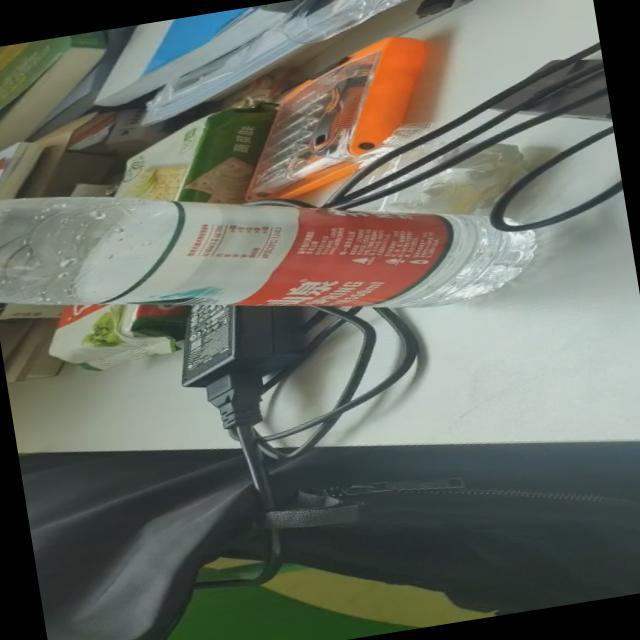good: (0, 110, 546, 376)
